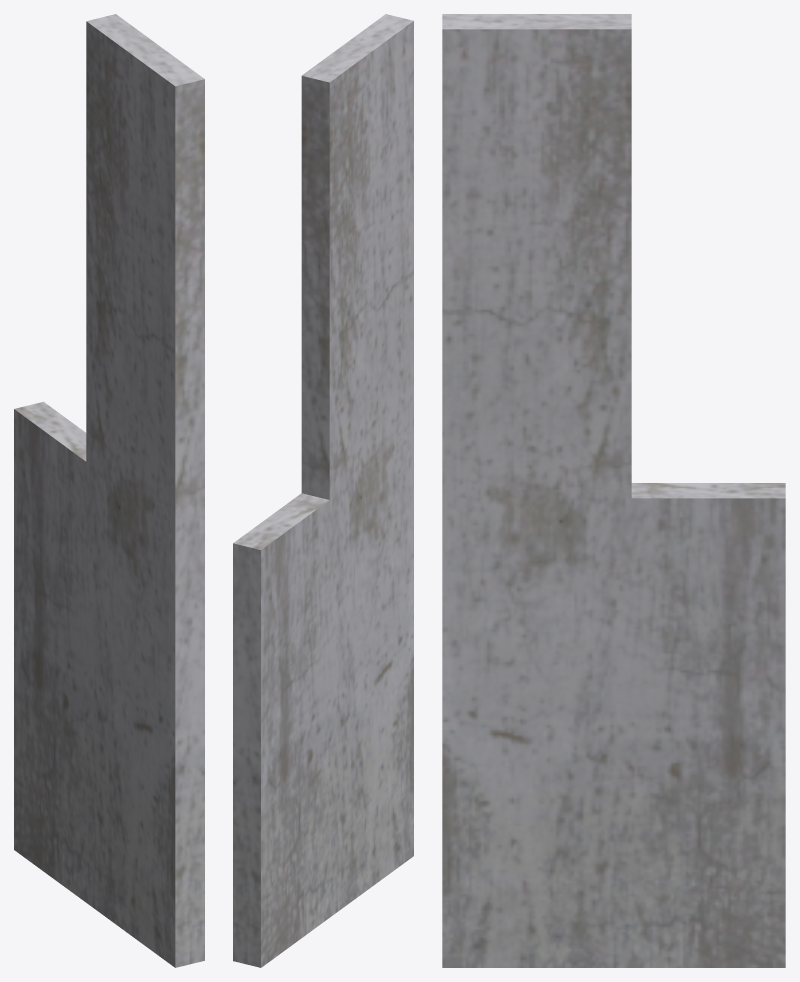
File: EntWall02a.fbx
3 views of the same model, side by side, from view 1: azimuth 30°, elevation 25°; view 2: azimuth 150°, elevation 25°; view 3: azimuth 270°, elevation 25° (orthographic). The views are drawn at different scales.
Parts seen in each view (by area): view 1: EntWall02a; view 2: EntWall02a; view 3: EntWall02a.
Boxes of the visible parts, x1,y1,x2,y2 form: EntWall02a: (14, 14, 204, 967); EntWall02a: (233, 14, 413, 967); EntWall02a: (442, 14, 785, 967).
Size of the model in its own units: 0.1 by 2.84 by 0.9427.
